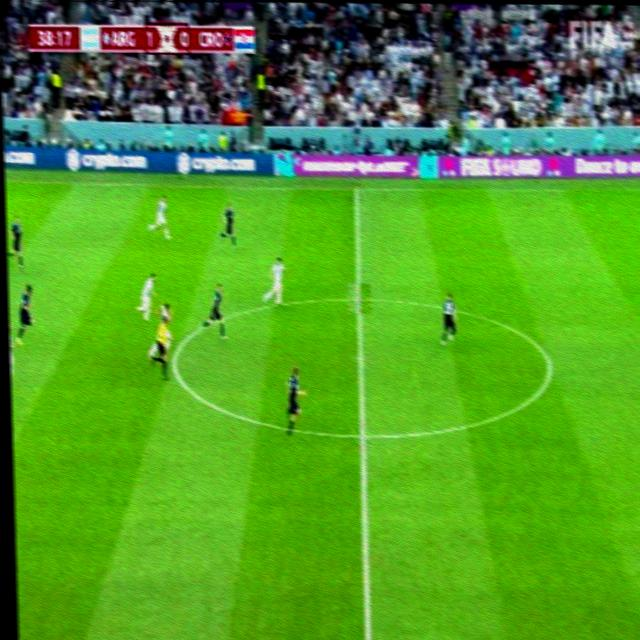halfcircle_bottom: (349, 419, 375, 451)
halfcircle_top: (346, 283, 372, 314)
midline_top_intersection: (348, 179, 365, 200)
